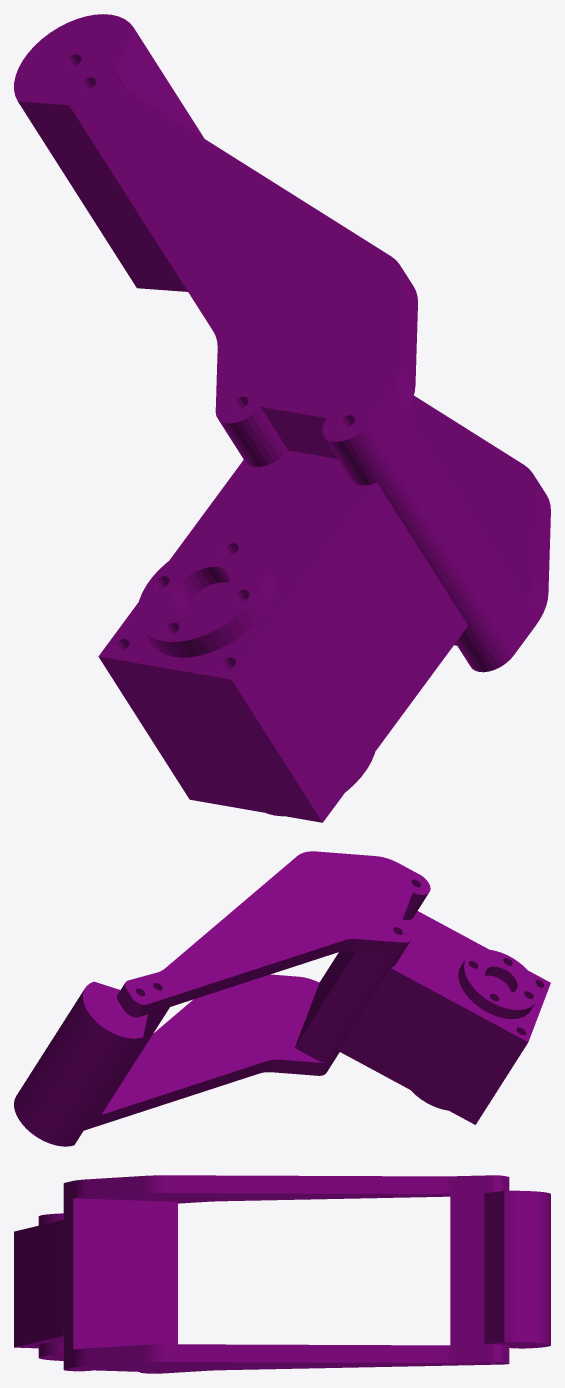
Rendered from hexy_test_5_Tibia_3_vis_1.dae.
The picture shows the model from 3 angles, top to bottom: view 1: azimuth 30°, elevation 25°; view 2: azimuth 150°, elevation 25°; view 3: azimuth 270°, elevation 25°; orthographic projection. The views are drawn at different scales.
Parts seen in each view (by area): view 1: node; view 2: node; view 3: node.
Part boxes in pixels (box(x1,y1,x2,y2)): node: box(14, 14, 550, 822); node: box(14, 851, 550, 1146); node: box(14, 1175, 550, 1373).
Bounding box in the file's own units: 0.3234 × 0.266 × 0.5303.
